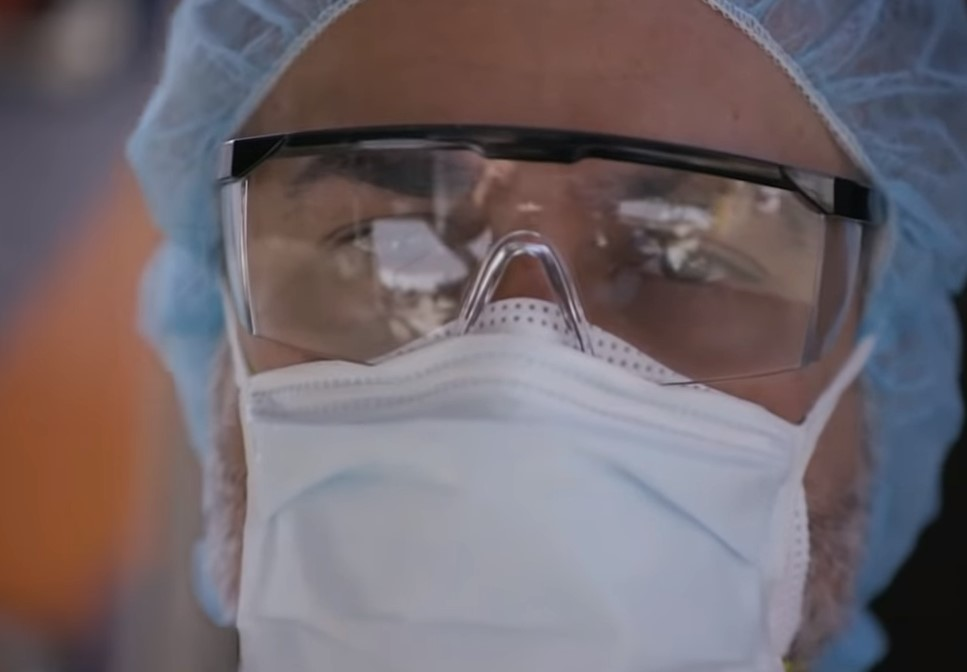face_with_mask: (121, 4, 960, 668)
